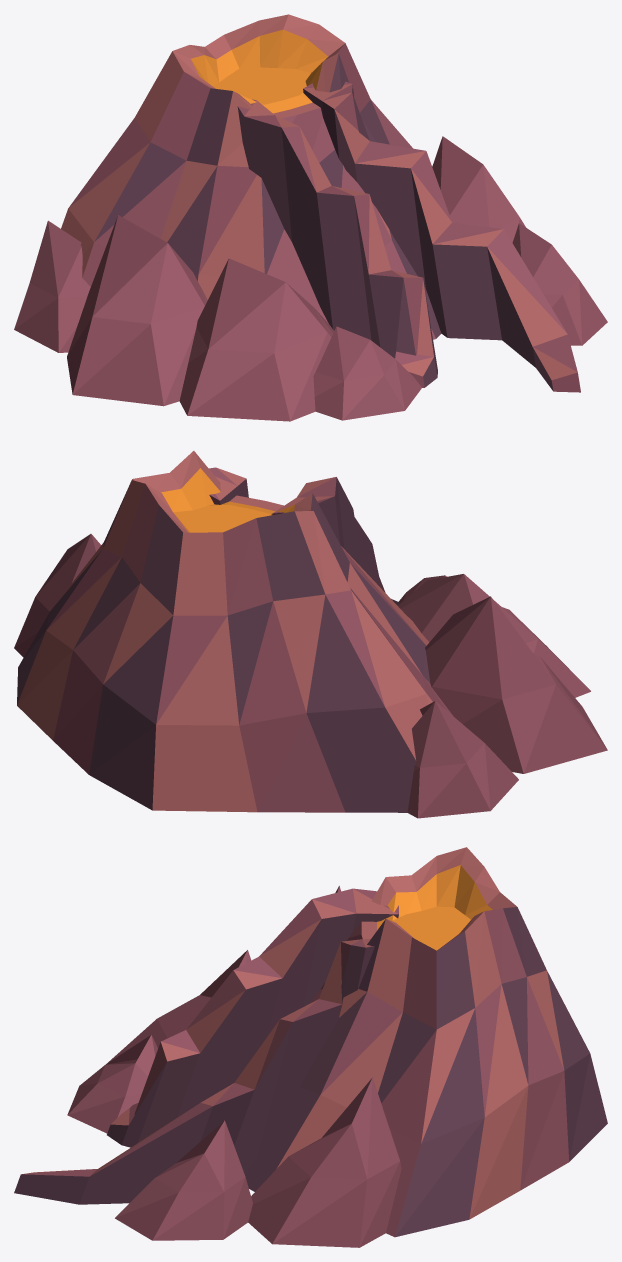
File: building.glb
3 renders of one model, top to bottom at view 1: azimuth 30°, elevation 25°; view 2: azimuth 150°, elevation 25°; view 3: azimuth 270°, elevation 25°, orthographic. The views are drawn at different scales.
Visible parts, largest first — view 1: 24_R3C_Dragon_AsymmetricCalderaAndFoldedRidges; view 2: 24_R3C_Dragon_AsymmetricCalderaAndFoldedRidges; view 3: 24_R3C_Dragon_AsymmetricCalderaAndFoldedRidges.
Part boxes in pixels (<box>): 24_R3C_Dragon_AsymmetricCalderaAndFoldedRidges: <box>14,14,607,421</box>; 24_R3C_Dragon_AsymmetricCalderaAndFoldedRidges: <box>14,451,607,818</box>; 24_R3C_Dragon_AsymmetricCalderaAndFoldedRidges: <box>14,847,607,1247</box>.
Size of the model in its own units: 1.43 by 0.6481 by 1.42.
